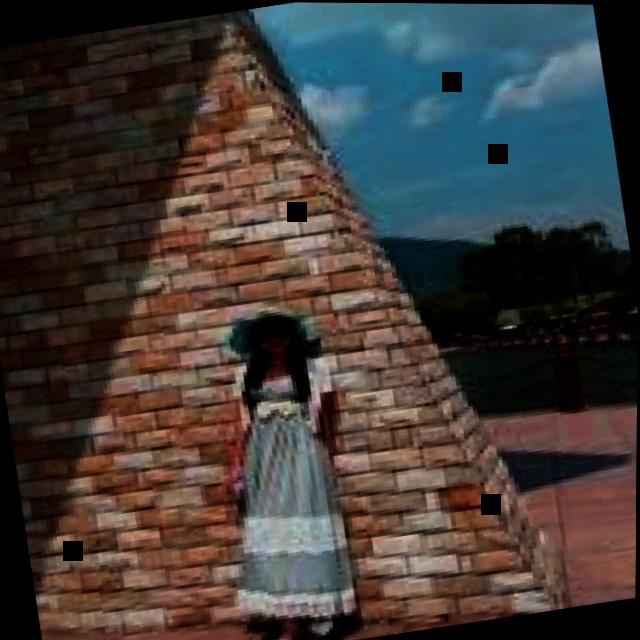Fall-Detected: (170, 278, 392, 640)
